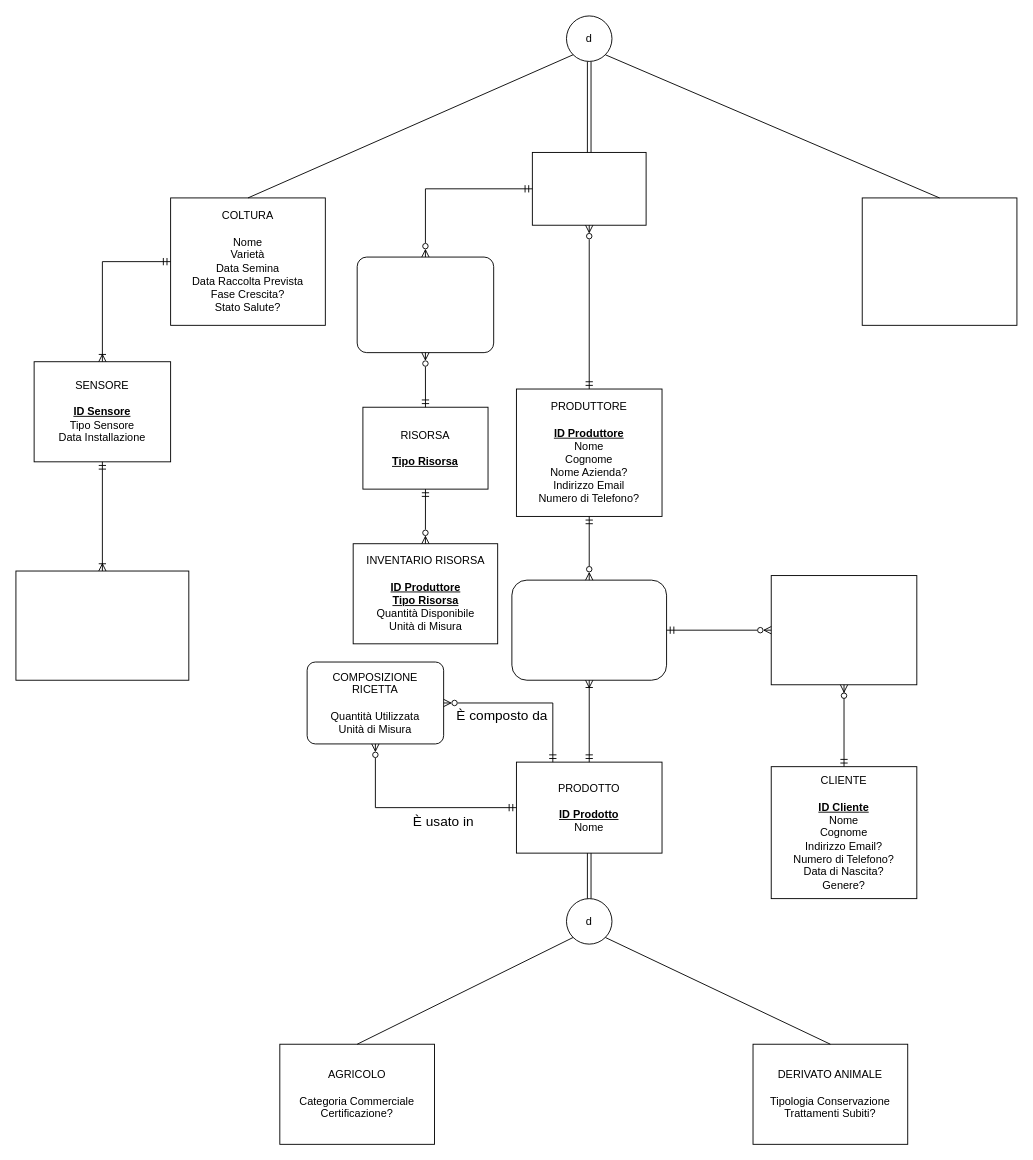
The diagram is 1033 pixels wide and 1160 high, and some of its shapes have lost their labels. Here are the shapes that lost their labels. From the top down, the box of each, then its label:
(531, 152, 646, 225): ATTIVITA' ID Attività
(861, 197, 1017, 325): BESTIAME Specie Razza Numero Capi Stato Salute Data Ultimo Controllo?
(356, 256, 494, 353): USO RISORSA ID Uso Quantità Usata Unità di Misura Data e Ora
(15, 570, 189, 680): RILEVAZIONE AMBIENTALE ID Sensore Data e Ora Condizione Misurazione
(511, 579, 667, 680): SCORTA Quantità Disponibile Unità di Misura Data Aggiornamento
(770, 575, 917, 685): VENDITA ID Vendita Quantità Unità di Misura Prezzo Totale Data e Ora
